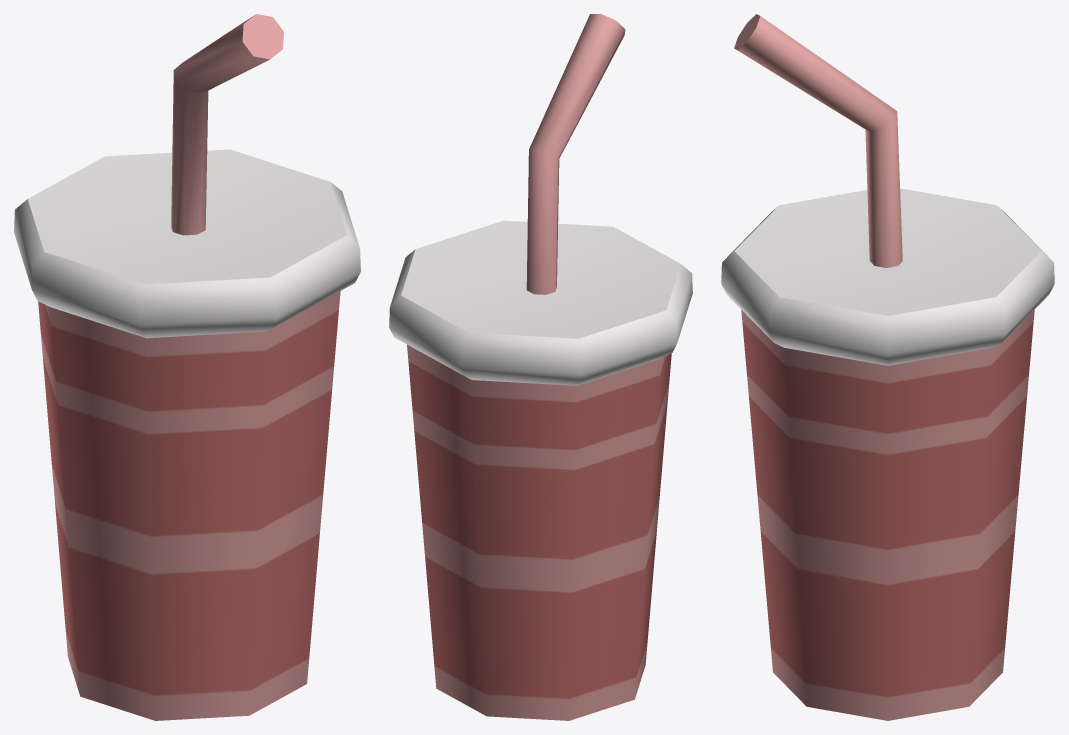
File: Drankje.fbx
3 views of the same model, side by side, from view 1: azimuth 30°, elevation 25°; view 2: azimuth 150°, elevation 25°; view 3: azimuth 270°, elevation 25° (orthographic). The views are drawn at different scales.
Visible parts, largest first — view 1: Drankje; view 2: Drankje; view 3: Drankje.
Part boxes in pixels (box(x1,y1,x2,y2)): Drankje: box(14, 14, 360, 720); Drankje: box(389, 14, 692, 720); Drankje: box(721, 14, 1054, 720).
Size of the model in its own units: 10.78 by 23.4 by 10.78.
1 material, 1 textured.
